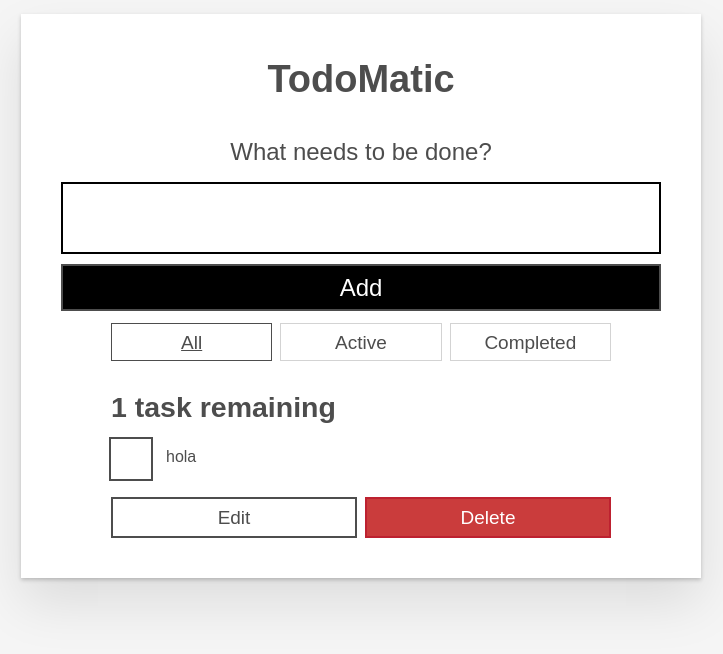
Test actions › Should enable editing on button click
What coordinates should you click on to do the following:
click the button "Edit"
I would click on:
 (234, 517)
Its box is [111, 497, 357, 538].
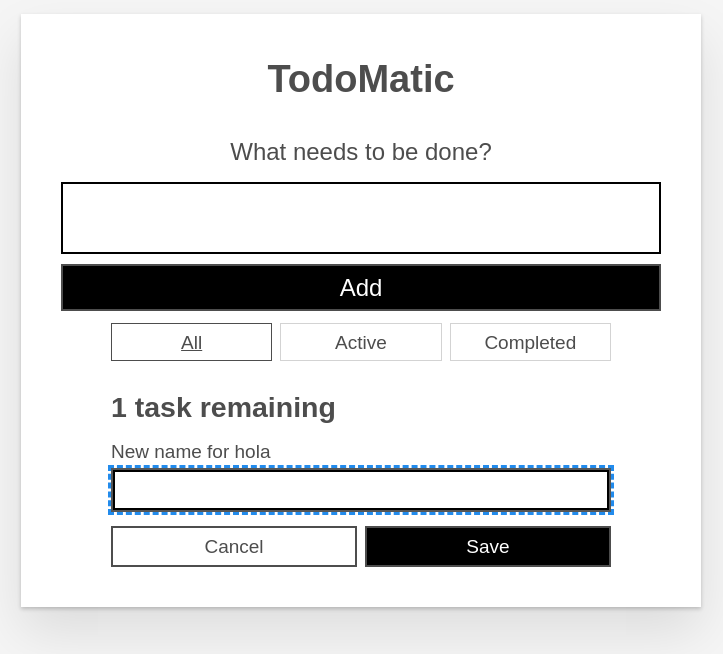
Expected: the field with test id "todo-edit-input" is shown, [111, 468, 611, 512]
